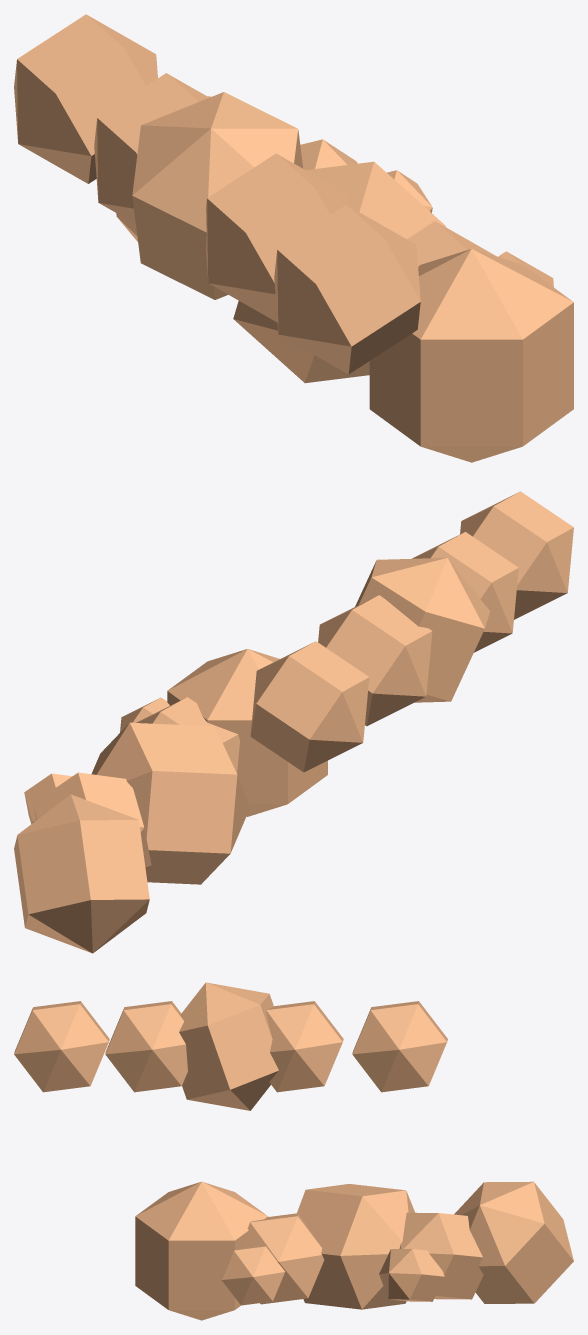
The model's file is M_RiverFoamClump_low.FBX.
3 views of the same model, one above another, from view 1: azimuth 30°, elevation 25°; view 2: azimuth 150°, elevation 25°; view 3: azimuth 270°, elevation 25° (orthographic). The views are drawn at different scales.
Parts seen in each view (by area): view 1: Sphere001, Sphere027, Sphere010, Sphere026, Sphere009, Sphere003, Sphere008, Sphere002, Sphere004, Sphere007; view 2: Sphere003, Sphere005, Sphere026, Sphere010, Sphere001, Sphere008, Sphere027, Sphere009, Sphere004, Sphere002, Sphere007, Sphere006; view 3: Sphere001, Sphere003, Sphere005, Sphere010, Sphere027, Sphere026, Sphere009, Sphere008, Sphere004, Sphere002, Sphere007, Sphere006.
Part boxes in pixels (x1=…): Sphere001: x1=369, y1=249, x2=573, y2=462; Sphere027: x1=274, y1=205, x2=420, y2=374; Sphere010: x1=132, y1=92, x2=303, y2=299; Sphere026: x1=14, y1=14, x2=157, y2=183; Sphere009: x1=205, y1=153, x2=347, y2=322; Sphere003: x1=233, y1=161, x2=445, y2=383; Sphere008: x1=94, y1=73, x2=209, y2=223; Sphere002: x1=407, y1=221, x2=496, y2=266; Sphere004: x1=300, y1=139, x2=357, y2=169; Sphere007: x1=387, y1=170, x2=432, y2=212; Sphere003: x1=91, y1=722, x2=250, y2=884; Sphere005: x1=14, y1=794, x2=149, y2=953; Sphere026: x1=250, y1=641, x2=369, y2=772; Sphere010: x1=355, y1=557, x2=489, y2=702; Sphere001: x1=167, y1=649, x2=327, y2=816; Sphere008: x1=318, y1=595, x2=432, y2=726; Sphere027: x1=460, y1=491, x2=573, y2=619; Sphere009: x1=412, y1=532, x2=518, y2=652; Sphere004: x1=33, y1=772, x2=151, y2=868; Sphere002: x1=136, y1=697, x2=239, y2=772; Sphere007: x1=24, y1=773, x2=71, y2=823; Sphere006: x1=120, y1=697, x2=169, y2=732; Sphere001: x1=135, y1=1181, x2=268, y2=1320; Sphere003: x1=296, y1=1184, x2=414, y2=1309; Sphere005: x1=454, y1=1181, x2=573, y2=1303; Sphere010: x1=179, y1=982, x2=278, y2=1110; Sphere027: x1=14, y1=1001, x2=109, y2=1092; Sphere026: x1=352, y1=1001, x2=447, y2=1092; Sphere009: x1=105, y1=1001, x2=187, y2=1092; Sphere008: x1=266, y1=1001, x2=343, y2=1092; Sphere004: x1=399, y1=1212, x2=483, y2=1299; Sphere002: x1=244, y1=1213, x2=324, y2=1304; Sphere007: x1=379, y1=1249, x2=444, y2=1301; Sphere006: x1=221, y1=1246, x2=285, y2=1305.
Size of the model in its own units: 4.75 by 4.06 by 8.02.
